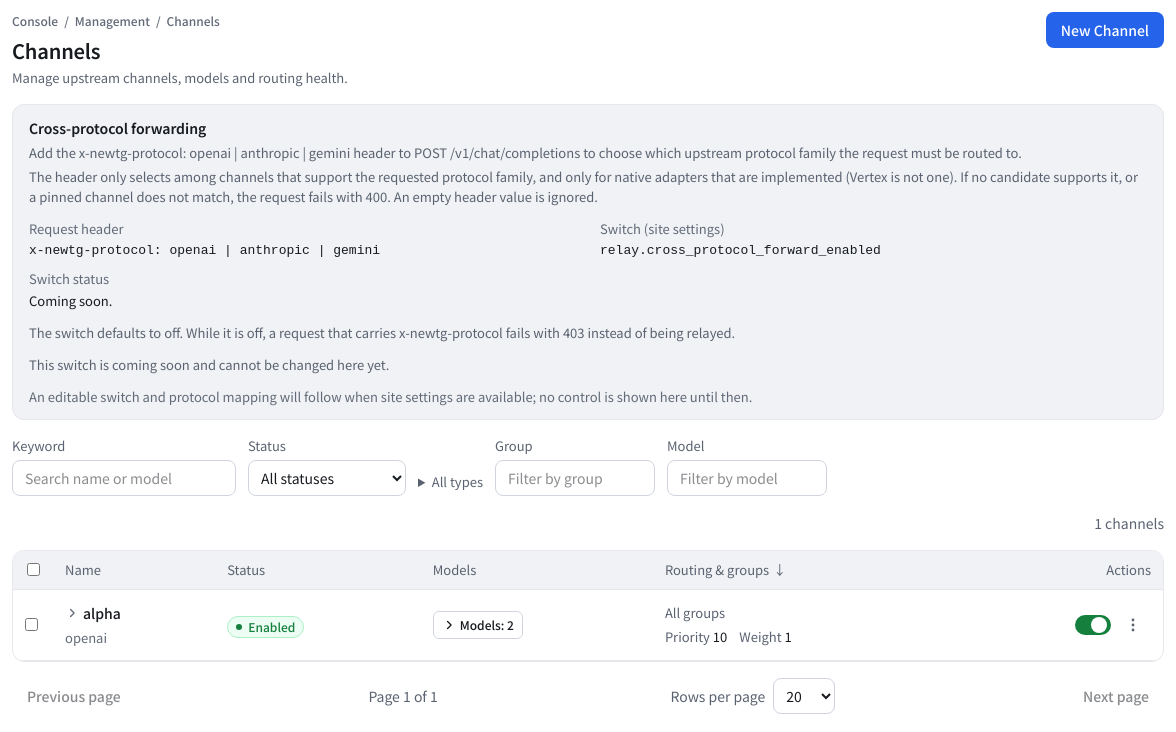
Test case: ChannelListPage › clears the selection when the debounced keyword filter applies
Check: the button "alpha" is shown, box [83, 602, 121, 624]
Click the checkbox named "Select alpha". click: coordinates (32, 624)
box: [25, 618, 38, 631]
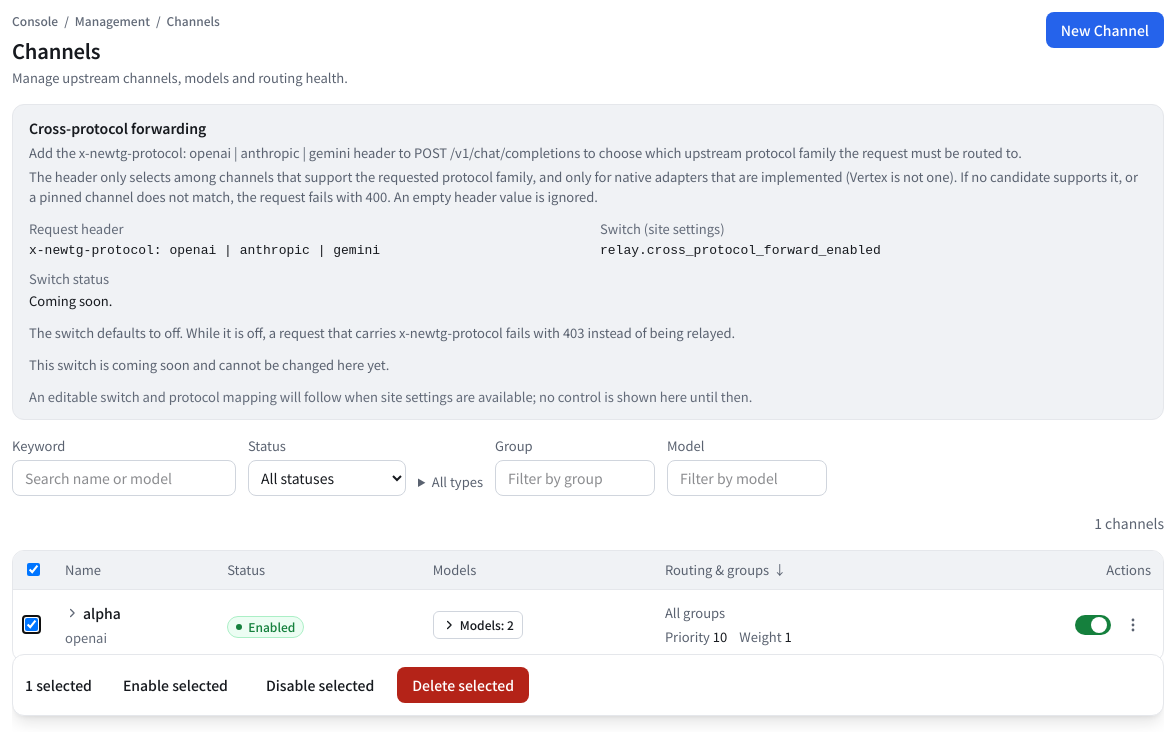
Check: the element with test id "bulk-bar" is shown, box [12, 654, 1164, 716]
Type "alpha" into the field labelled "Keyword". click: coordinates (124, 478)
box: [12, 460, 236, 496]
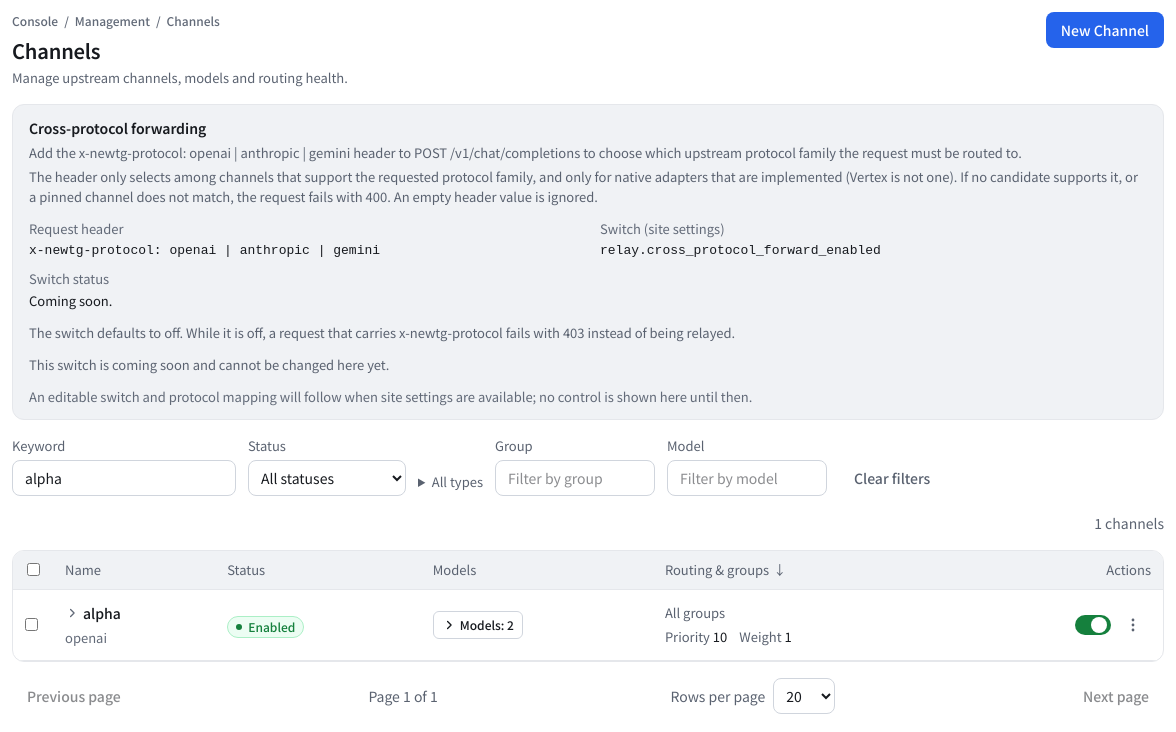
Check: the element with test id "bulk-bar" is gone
